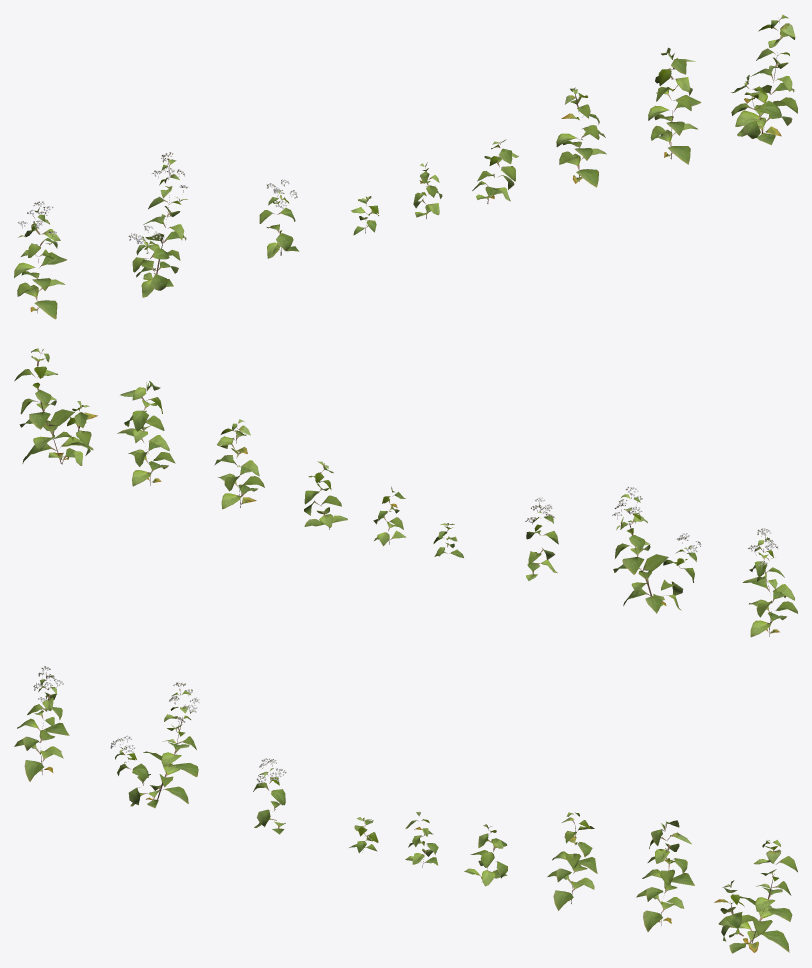
Rendered from scene-flowers.glb.
3 renders of one model, top to bottom at view 1: azimuth 30°, elevation 25°; view 2: azimuth 150°, elevation 25°; view 3: azimuth 330°, elevation 25°, orthographic. The views are drawn at different scales.
Parts seen in each view (by area): view 1: shrub_01_a; view 2: shrub_01_a; view 3: shrub_01_a.
Part boxes in pixels (box(x1,y1,x2,y2)): shrub_01_a: box(14, 14, 797, 319); shrub_01_a: box(14, 348, 797, 637); shrub_01_a: box(14, 666, 797, 953).
Bounding box in the file's own units: 2.59 × 0.3956 × 0.2175.
1 material, 1 textured.
